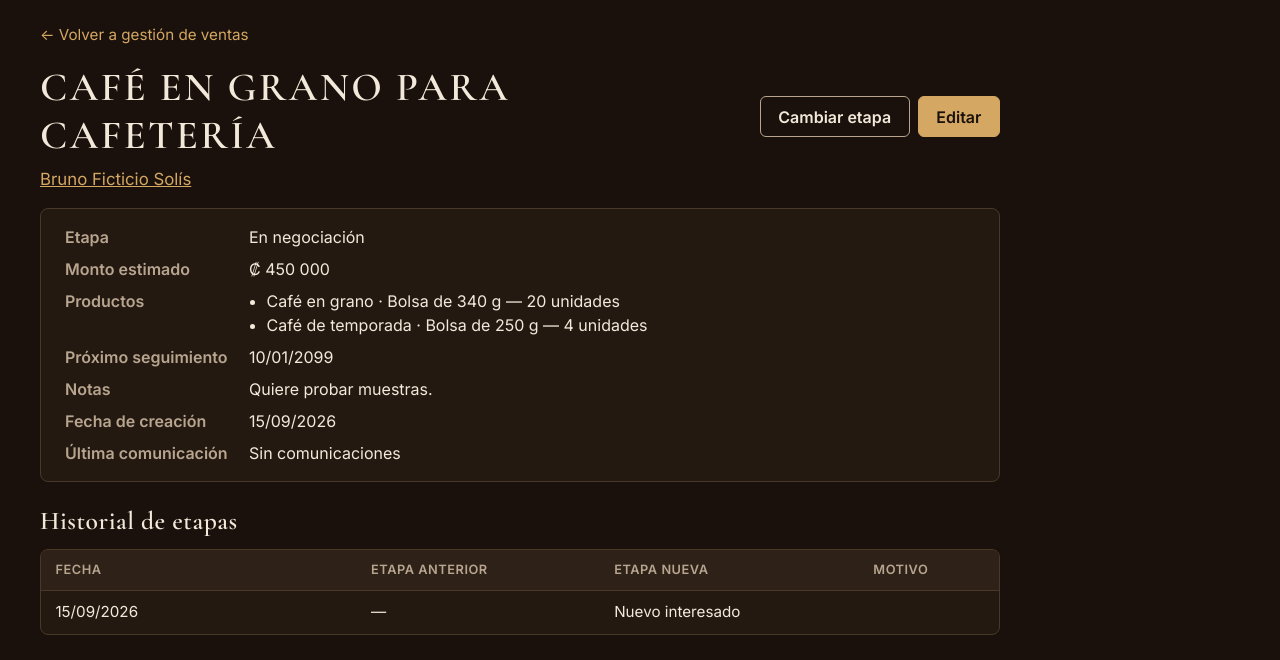
Scenario: HU-309 Editar una oportunidad de venta › el formulario parte de los datos guardados y permite cambiar título, monto, productos, seguimiento y notas
What coordinates should you click on to do the following:
click the button "Editar"
I would click on:
 (959, 117)
Its box is [918,96,1000,137].
(page scrolled)
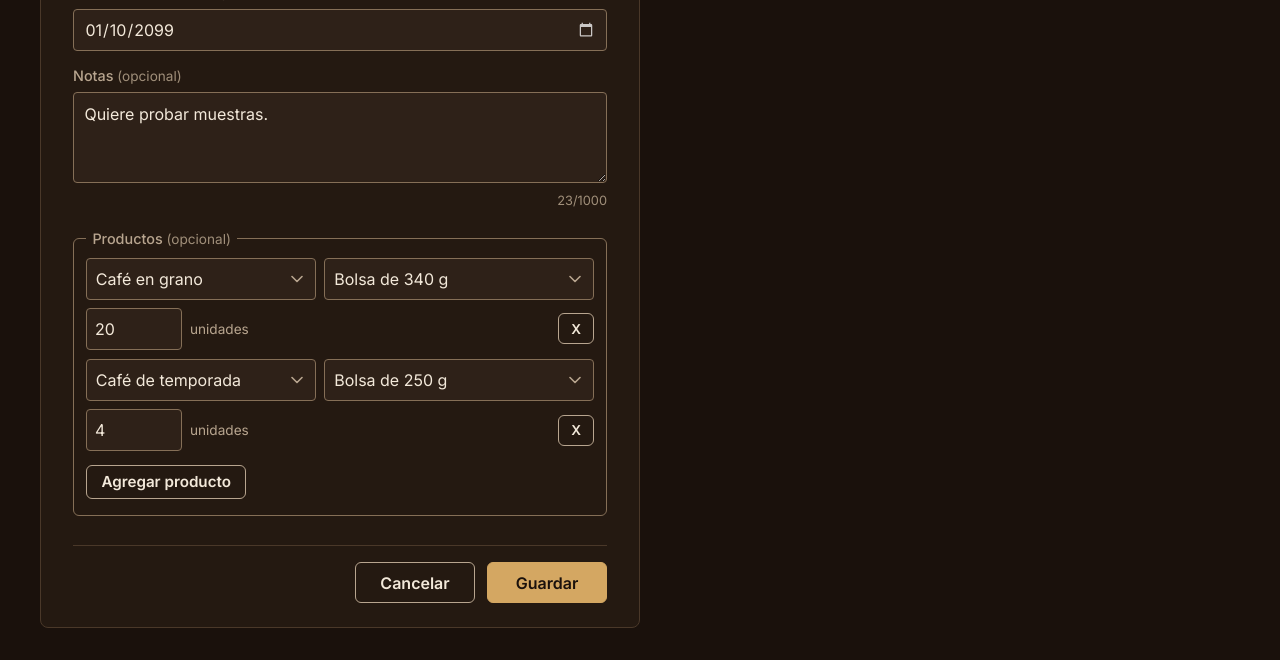
Check: the button "Guardar" is shown, box [487,562,607,604]
Check: the date field labelled "Fecha del próximo seguimiento (opcional)" holds "2099-01-10", box [73,8,607,51]
Check: the text box labelled "Notas (opcional)" holds "Quiere probar muestras.", box [73,92,607,183]
